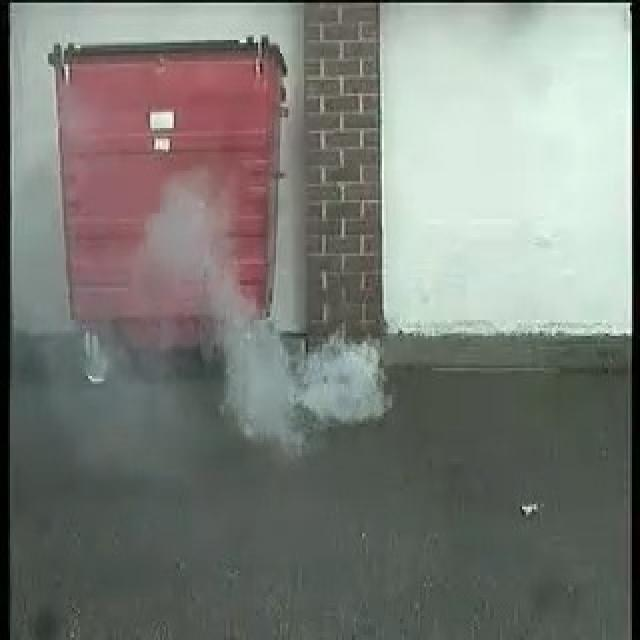smoke: (180, 289, 388, 432)
